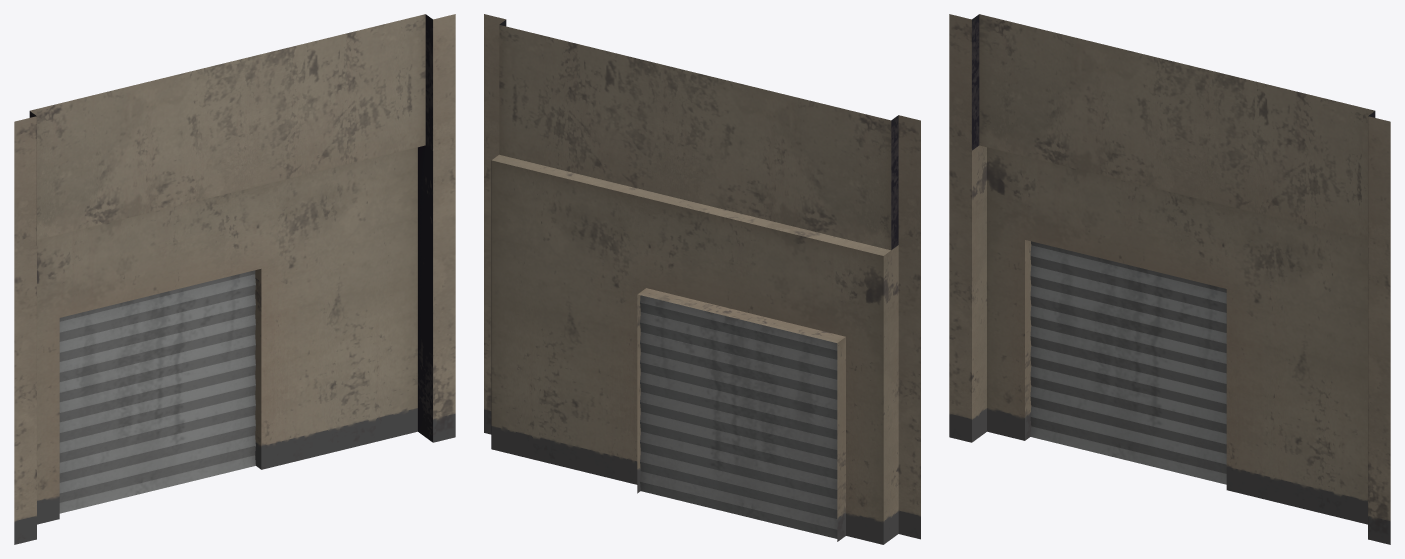
The model's file is Wall_1.fbx.
3 renders of one model, left to right at view 1: azimuth 30°, elevation 25°; view 2: azimuth 150°, elevation 25°; view 3: azimuth 330°, elevation 25°, orthographic.
Visible parts, largest first — view 1: wall_1_garage; view 2: wall_1_garage; view 3: wall_1_garage.
Part boxes in pixels (x1,y1,x2,y2): wall_1_garage: (14, 14, 455, 544); wall_1_garage: (484, 14, 920, 544); wall_1_garage: (949, 14, 1390, 544).
Bounding box in the file's own units: 12 × 11 × 1.13.
